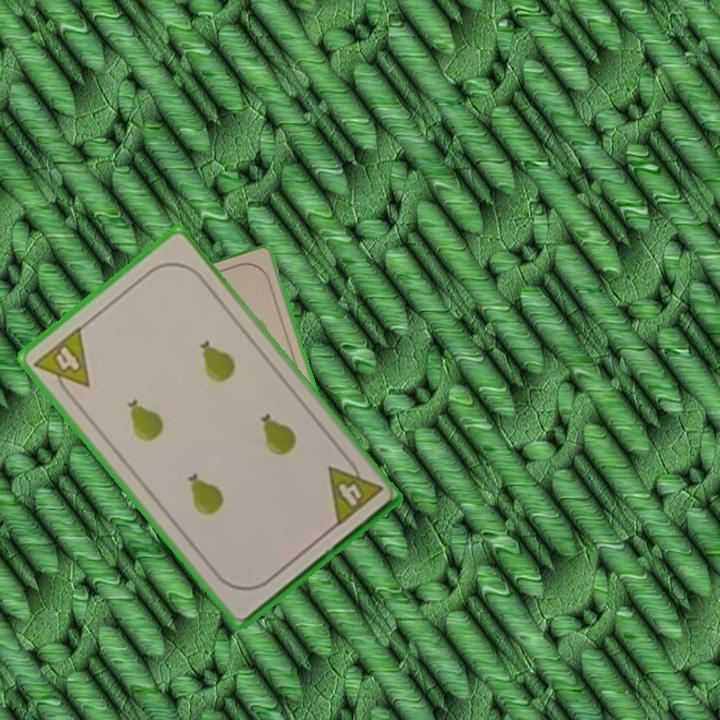4p: (29, 323, 93, 403), (323, 451, 385, 530)
